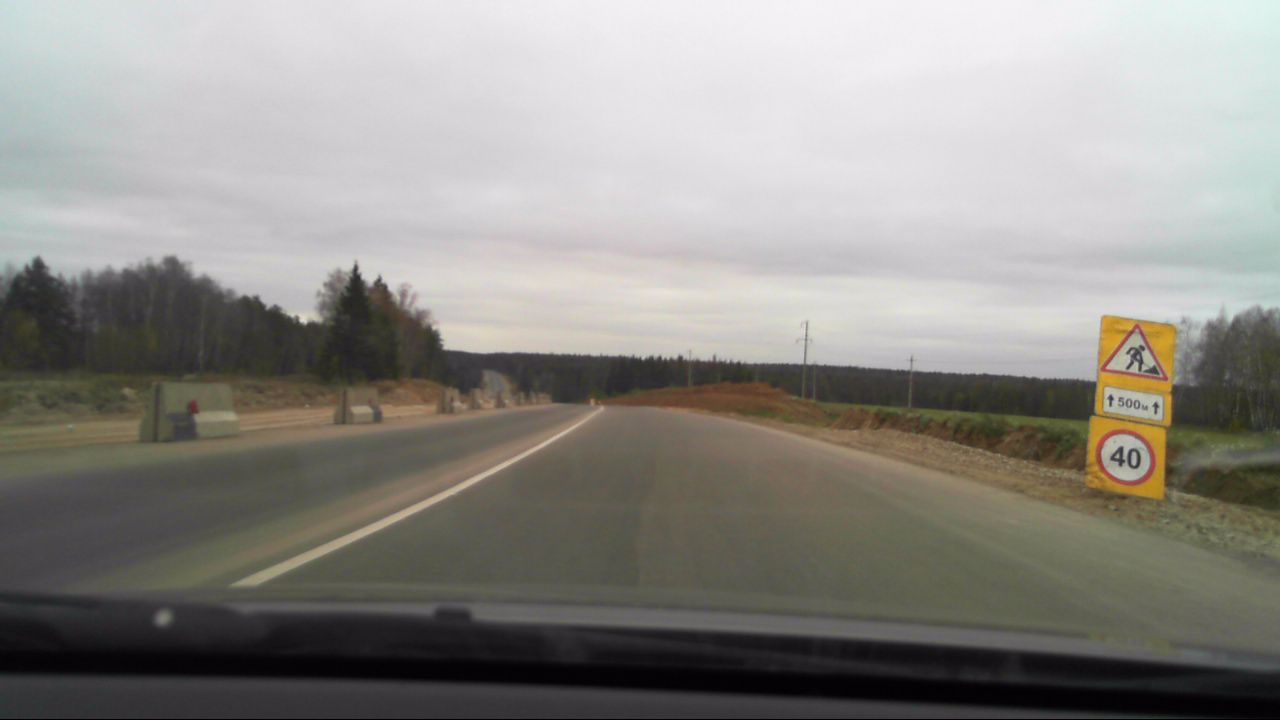speed_warning_40: (1094, 427, 1153, 486)
